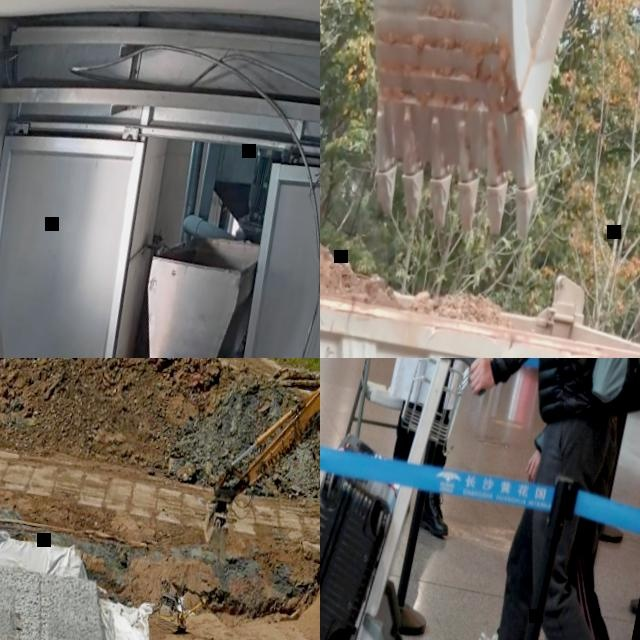NO-Safety Vest: (527, 358, 640, 414)
Person: (410, 358, 640, 640), (459, 358, 640, 640), (357, 358, 532, 544)
machinery: (326, 0, 614, 254), (320, 132, 640, 358), (165, 359, 320, 640)
